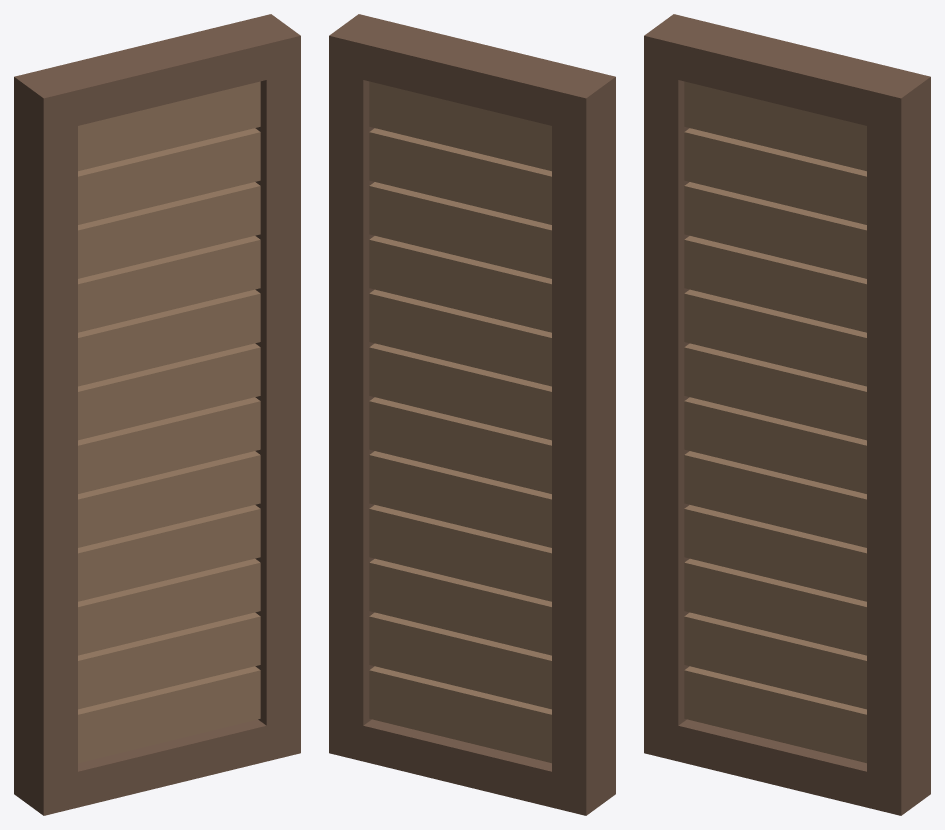
File: haunted_wall_woodnarrow.glb
The picture shows the model from 3 angles, left to right: view 1: azimuth 30°, elevation 25°; view 2: azimuth 150°, elevation 25°; view 3: azimuth 330°, elevation 25°; orthographic projection.
Visible parts, largest first — view 1: Haunted_Wall_WoodNarrow; view 2: Haunted_Wall_WoodNarrow; view 3: Haunted_Wall_WoodNarrow.
Boxes of the visible parts, bbox=[...] form: Haunted_Wall_WoodNarrow: bbox=[14, 14, 300, 815]; Haunted_Wall_WoodNarrow: bbox=[329, 14, 615, 815]; Haunted_Wall_WoodNarrow: bbox=[644, 14, 930, 815].
Bounding box in the file's own units: 1.5 × 4 × 0.3.
